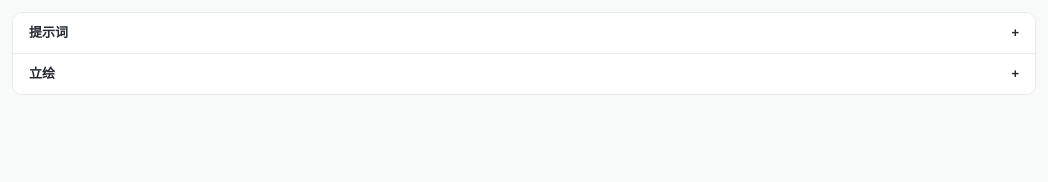
Test: navigation › expands accordion panels and disclosure content
The width and height of the screenshot is (1048, 182).
Later steps or results of the test are not shown.
expect the text "提示词详情" is not shown: met
Click the button "提示词 +".
click(49, 32)  # box [13, 13, 1035, 53]
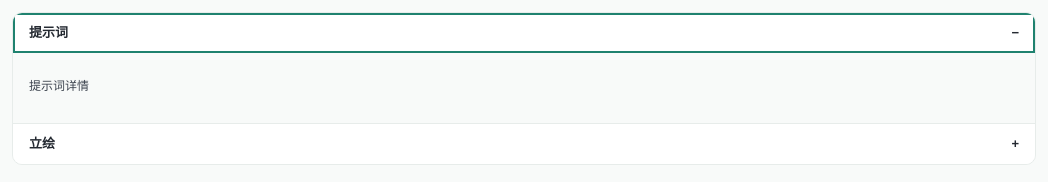
expect the text "提示词详情" is shown: met, box [29, 79, 89, 93]
